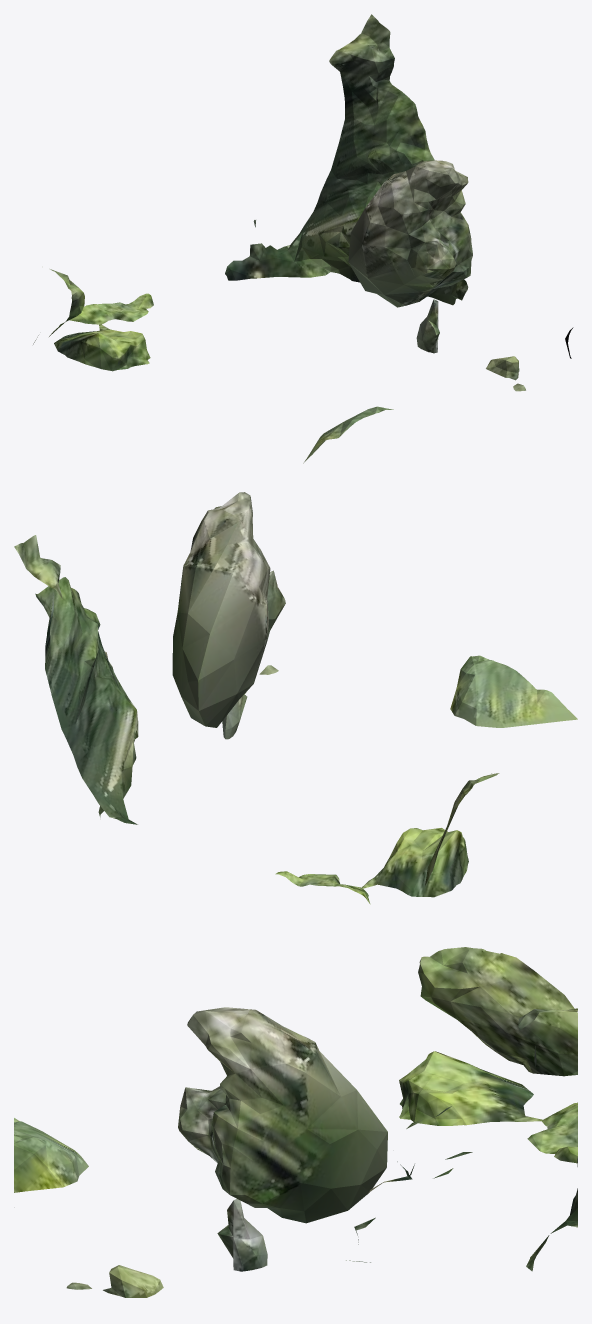
The picture shows the model from 3 angles, top to bottom: view 1: azimuth 30°, elevation 25°; view 2: azimuth 150°, elevation 25°; view 3: azimuth 270°, elevation 25°; orthographic projection. The views are drawn at different scales.
Size of the model in its own units: 26.11 by 16.16 by 26.11.
Materials: 2 (2 with a texture image).
